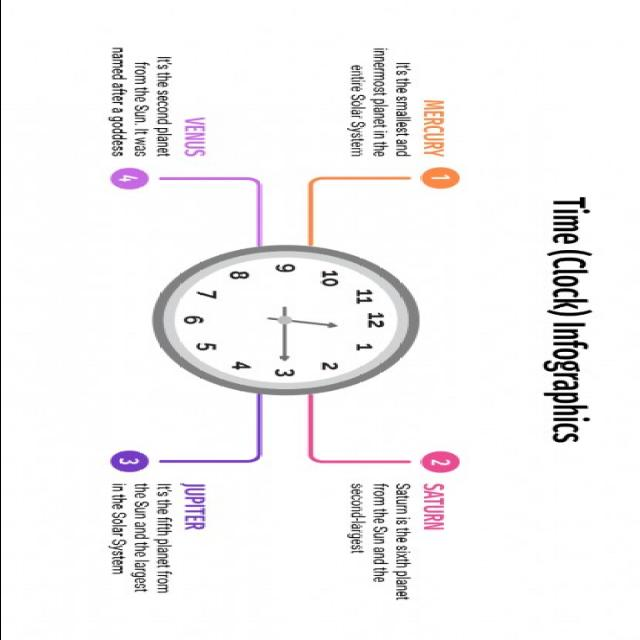clock: (126, 258, 386, 401)
